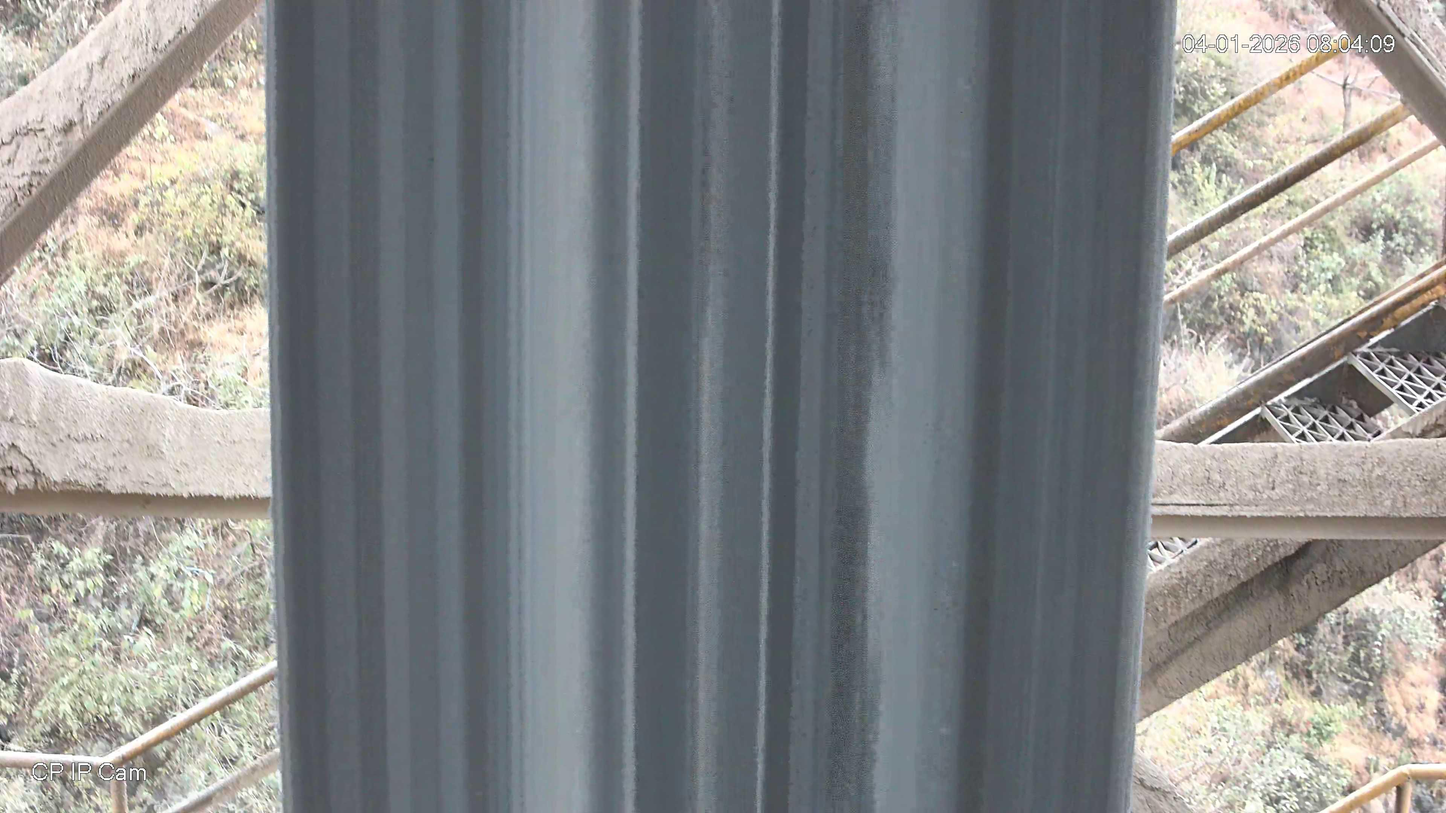belt_roi: (264, 1, 1176, 813)
